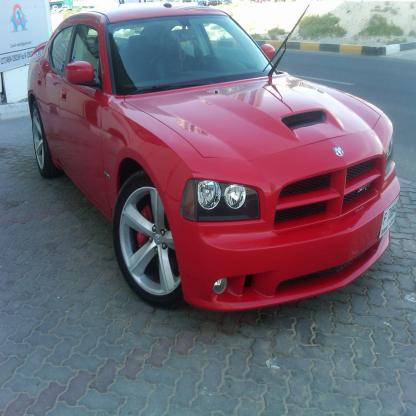Vehicle: (28, 0, 402, 315)
